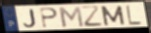J: (23, 8, 38, 28)
L: (125, 4, 143, 26)
M: (57, 5, 85, 28), (99, 5, 127, 27)
P: (39, 7, 60, 29)
Z: (80, 5, 105, 28)
